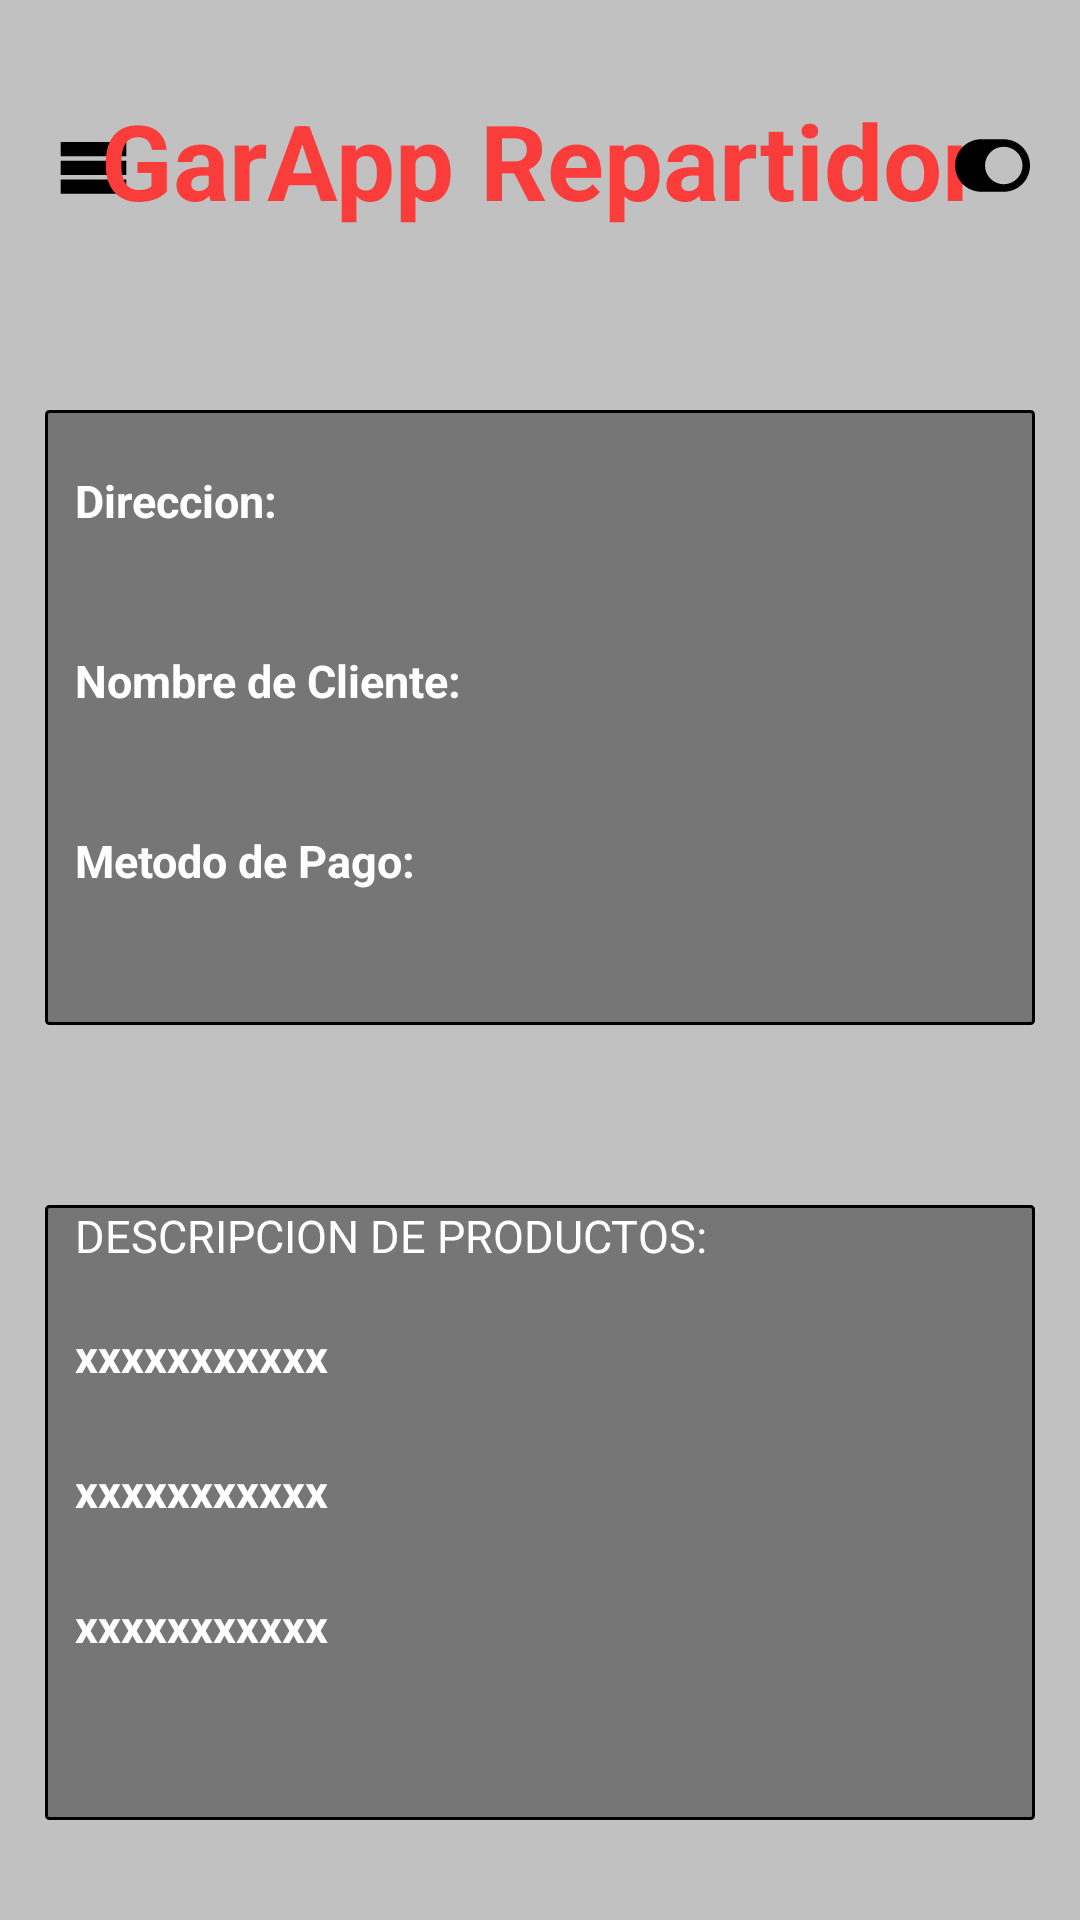

Screen size 1080x1920. Icon name, then its center in pixels as (x=x, y=y):
menu: (x=95, y=164)
switch: (x=992, y=170)
